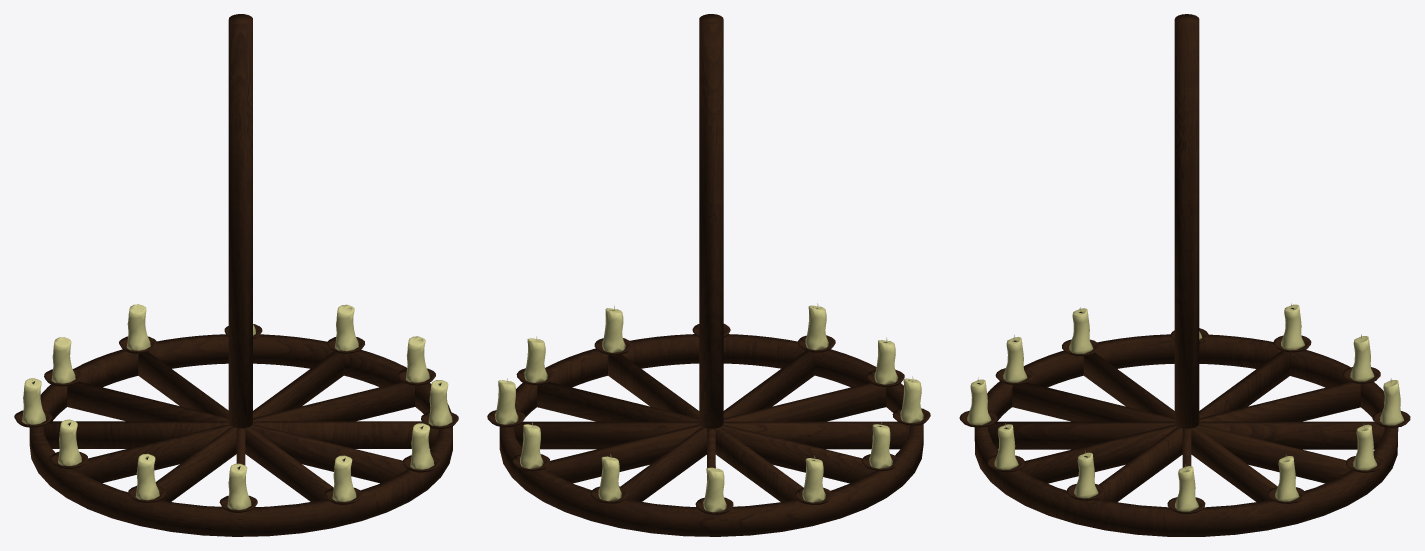
The model's file is small_chandelier.fbx.
3 views of the same model, side by side, from view 1: azimuth 30°, elevation 25°; view 2: azimuth 150°, elevation 25°; view 3: azimuth 270°, elevation 25° (orthographic).
Parts seen in each view (by area): view 1: Light, candle_wall_9, candle_wall_2_2, candle_wall_6, candle_wall, candle_wall_1, candle_wall_3, candle_wall_4, candle_wall_2, candle_wall_7, candle_wall_10, candle_wall_5; view 2: Light, candle_wall_5, candle_wall_10, candle_wall, candle_wall_8, candle_wall_1, candle_wall_6, candle_wall_9, candle_wall_7, candle_wall_3, candle_wall_2, candle_wall_2_2; view 3: Light, candle_wall, candle_wall_2_2, candle_wall_3, candle_wall_5, candle_wall_2, candle_wall_4, candle_wall_8, candle_wall_6, candle_wall_9, candle_wall_7, candle_wall_10.
Boxes of the visible parts, bbox=[...] form: Light: bbox=[29, 14, 452, 536]; candle_wall_9: bbox=[119, 304, 156, 353]; candle_wall_2_2: bbox=[14, 378, 52, 427]; candle_wall_6: bbox=[398, 336, 435, 385]; candle_wall: bbox=[128, 453, 165, 502]; candle_wall_1: bbox=[50, 419, 88, 468]; candle_wall_3: bbox=[324, 455, 362, 504]; candle_wall_4: bbox=[402, 423, 440, 472]; candle_wall_2: bbox=[219, 463, 257, 512]; candle_wall_7: bbox=[327, 304, 364, 353]; candle_wall_10: bbox=[44, 337, 81, 386]; candle_wall_5: bbox=[421, 380, 458, 429]; Light: bbox=[499, 14, 923, 536]; candle_wall_5: bbox=[594, 305, 632, 355]; candle_wall_10: bbox=[695, 465, 733, 514]; candle_wall: bbox=[892, 376, 930, 425]; candle_wall_8: bbox=[512, 421, 549, 471]; candle_wall_1: bbox=[861, 422, 899, 471]; candle_wall_6: bbox=[516, 336, 554, 385]; candle_wall_9: bbox=[591, 454, 628, 503]; candle_wall_7: bbox=[487, 378, 525, 427]; candle_wall_3: bbox=[798, 303, 835, 352]; candle_wall_2: bbox=[867, 337, 904, 387]; candle_wall_2_2: bbox=[795, 455, 832, 505]; Light: bbox=[974, 14, 1398, 536]; candle_wall: bbox=[1062, 307, 1099, 356]; candle_wall_2_2: bbox=[1273, 303, 1311, 352]; candle_wall_3: bbox=[959, 377, 997, 427]; candle_wall_5: bbox=[1067, 450, 1104, 500]; candle_wall_2: bbox=[995, 335, 1033, 385]; candle_wall_4: bbox=[986, 423, 1024, 472]; candle_wall_8: bbox=[1346, 423, 1383, 472]; candle_wall_6: bbox=[1167, 465, 1205, 514]; candle_wall_9: bbox=[1372, 378, 1410, 427]; candle_wall_7: bbox=[1267, 454, 1305, 503]; candle_wall_10: bbox=[1343, 334, 1380, 383].
Size of the model in its own units: 60.64 by 65.36 by 62.35.
2 materials, 2 textured.
